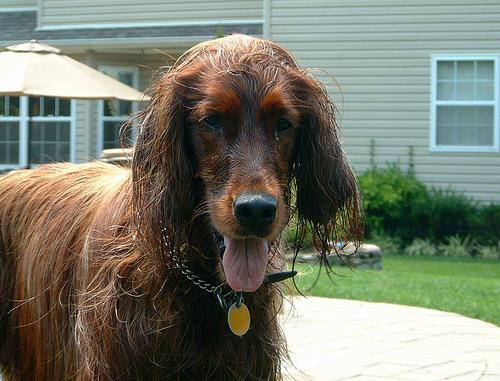Irish_setter: (0, 30, 352, 380)
